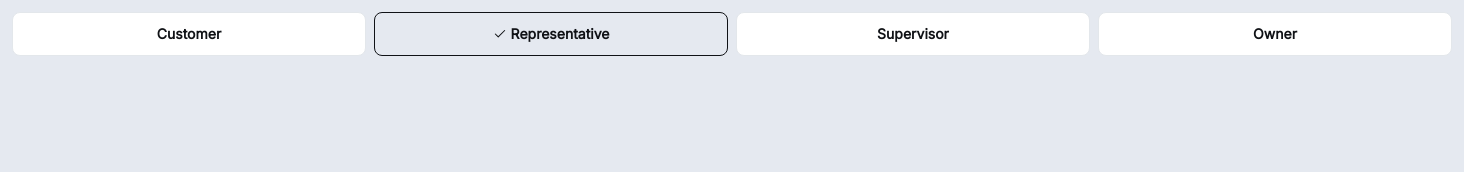
RoleSwitch › disables all four while switching and shows Switching
The image size is (1464, 172).
Expected: the radio button with aria-label "current" is shown, [374, 12, 728, 56]
Click the radio button with aria-label "Demo supervisor".
click(913, 34)  # box [736, 12, 1090, 56]
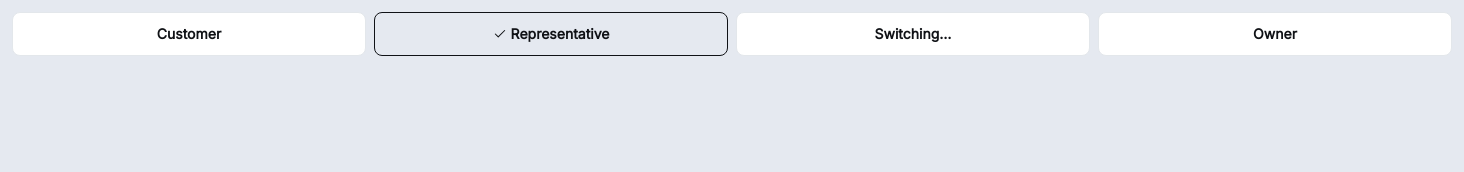
Now the text "Switching…" is shown, box [874, 24, 951, 44]
